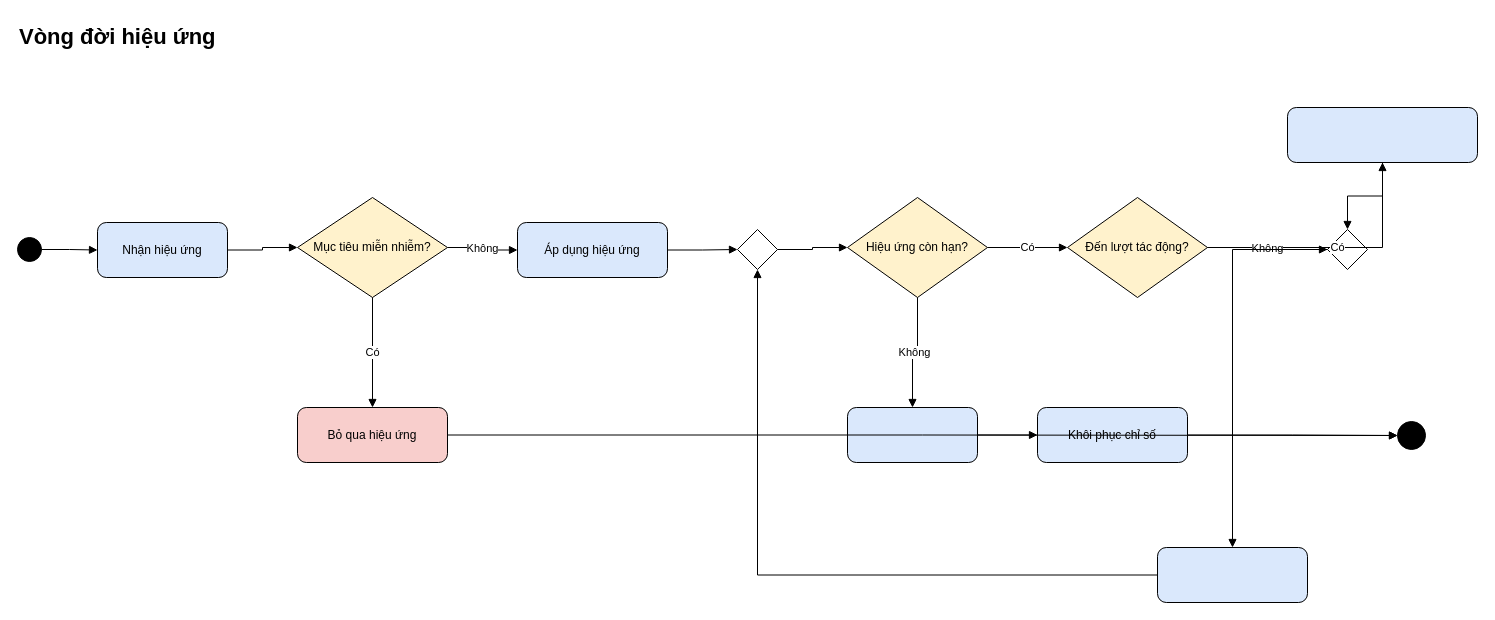
This 1495x620 diagram has some shape labels left out. The shapes that lost their labels are listed below. From the top down, each one's centre as x and y in pixels, then its label:
At point (1382, 134): "Gây tác động định kỳ".
At point (912, 434): "Gỡ hiệu ứng".
At point (1232, 574): "Chờ khung hình".
